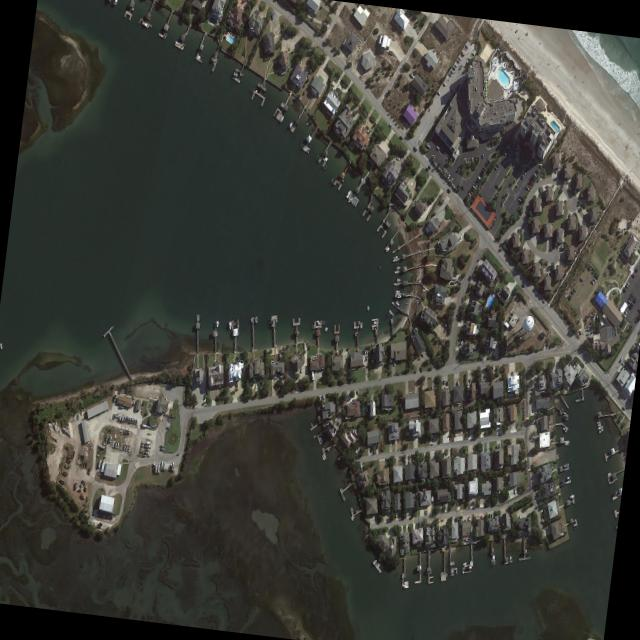ship: (141, 19, 149, 28), (345, 188, 352, 198), (347, 194, 353, 202), (171, 461, 175, 470), (157, 463, 161, 472), (279, 114, 284, 121), (372, 557, 377, 564), (289, 119, 293, 127), (233, 70, 238, 76), (395, 299, 400, 305), (385, 245, 390, 251), (562, 425, 567, 431), (563, 413, 568, 419), (613, 489, 618, 495), (163, 460, 166, 470), (160, 460, 163, 470), (306, 146, 310, 153), (228, 319, 231, 328), (155, 463, 158, 472), (152, 461, 155, 470), (211, 55, 216, 60), (404, 579, 409, 584), (316, 318, 320, 324), (569, 493, 575, 497), (563, 462, 569, 466), (509, 554, 512, 562), (0, 341, 3, 349), (321, 452, 324, 459), (360, 463, 363, 470), (169, 463, 172, 470), (319, 436, 323, 441), (395, 288, 400, 292), (393, 254, 398, 258), (462, 560, 467, 564), (378, 263, 381, 269), (395, 293, 401, 296), (451, 568, 454, 574), (216, 319, 218, 327), (113, 0, 117, 4), (396, 277, 400, 281), (607, 470, 611, 474), (598, 425, 600, 433), (515, 485, 517, 493), (360, 320, 362, 327), (367, 304, 369, 310), (396, 265, 400, 268), (597, 420, 599, 426), (493, 557, 495, 563), (351, 514, 353, 520)
small-vehicle: (98, 443, 105, 448), (409, 71, 414, 77), (413, 144, 417, 151), (124, 429, 130, 433), (108, 435, 112, 441), (116, 441, 120, 447), (459, 339, 463, 345), (619, 355, 623, 361), (458, 64, 462, 70), (470, 186, 474, 192), (476, 177, 480, 183), (481, 167, 485, 173), (458, 234, 462, 240), (485, 160, 489, 166), (529, 177, 533, 183), (530, 175, 534, 181), (531, 173, 535, 179), (131, 416, 134, 423), (133, 416, 136, 423), (135, 417, 138, 424), (113, 411, 116, 418), (117, 411, 120, 418), (126, 415, 129, 422), (128, 416, 131, 423), (105, 433, 108, 440), (389, 122, 393, 127), (437, 89, 441, 94), (372, 121, 376, 126), (427, 163, 431, 168), (624, 309, 628, 314), (622, 287, 626, 292), (468, 55, 472, 60), (586, 265, 590, 270), (591, 278, 595, 283), (469, 188, 473, 193), (472, 184, 476, 189), (484, 163, 488, 168), (474, 179, 478, 184), (480, 170, 484, 175), (457, 152, 461, 157), (487, 158, 491, 163), (452, 64, 456, 69), (436, 144, 440, 149), (445, 137, 449, 142), (575, 316, 579, 321), (535, 168, 539, 173), (526, 182, 530, 187), (528, 180, 532, 185), (525, 184, 529, 189), (515, 145, 519, 150), (520, 174, 524, 179), (521, 172, 525, 177), (114, 440, 117, 446), (123, 443, 126, 449), (124, 414, 127, 420), (414, 197, 417, 203), (444, 322, 447, 328), (444, 134, 447, 140), (447, 138, 450, 144), (534, 171, 537, 177), (331, 82, 335, 86), (632, 297, 636, 301), (440, 335, 444, 339), (530, 389, 534, 393), (626, 280, 630, 284), (627, 298, 631, 302), (621, 406, 625, 410), (483, 165, 487, 169), (467, 191, 471, 195), (473, 182, 477, 186), (477, 175, 481, 179), (449, 69, 453, 73), (456, 57, 460, 61), (442, 167, 446, 171), (535, 290, 539, 294), (572, 287, 576, 291), (494, 183, 498, 187), (634, 267, 637, 272), (274, 375, 279, 378), (159, 443, 164, 446), (146, 440, 151, 443), (125, 444, 128, 449), (299, 60, 302, 65), (623, 312, 626, 317), (621, 359, 624, 364), (593, 276, 596, 281), (447, 187, 450, 192), (479, 171, 482, 176), (450, 176, 453, 181), (472, 50, 475, 55), (446, 170, 449, 175), (447, 172, 450, 177), (496, 162, 499, 167), (522, 281, 525, 286), (578, 329, 581, 334), (517, 143, 520, 148), (518, 196, 521, 201), (128, 445, 130, 451), (145, 447, 149, 450), (396, 156, 400, 159), (443, 80, 446, 84), (393, 359, 395, 365), (443, 337, 446, 341), (587, 333, 590, 337), (629, 295, 632, 299), (625, 283, 628, 287), (631, 272, 634, 276), (630, 302, 633, 306), (452, 276, 456, 279), (508, 489, 510, 495), (469, 429, 471, 435), (586, 331, 590, 334), (465, 43, 468, 47), (454, 62, 457, 66), (458, 55, 461, 59), (542, 297, 545, 301), (569, 293, 572, 297), (576, 319, 579, 323), (579, 277, 583, 280), (515, 150, 518, 154), (503, 150, 506, 154), (507, 144, 510, 148), (514, 152, 517, 156), (515, 182, 518, 186), (523, 170, 526, 174), (115, 412, 117, 417), (364, 348, 366, 353), (366, 354, 368, 359), (376, 443, 378, 448), (357, 388, 359, 393), (395, 511, 397, 516), (408, 453, 410, 458), (446, 380, 448, 385), (442, 379, 444, 384), (469, 377, 471, 382), (462, 184, 464, 189), (166, 425, 169, 428), (148, 444, 151, 447), (531, 386, 534, 389), (586, 327, 589, 330), (570, 290, 573, 293), (494, 165, 497, 168), (160, 447, 164, 449), (145, 451, 149, 453), (366, 348, 368, 352), (533, 436, 537, 438), (638, 307, 640, 311), (450, 281, 454, 283), (482, 153, 484, 157), (371, 445, 372, 451), (432, 522, 433, 528), (499, 442, 500, 448), (301, 366, 302, 371), (492, 512, 493, 517), (481, 376, 482, 381), (484, 373, 485, 378), (547, 271, 548, 276), (481, 515, 482, 519)
